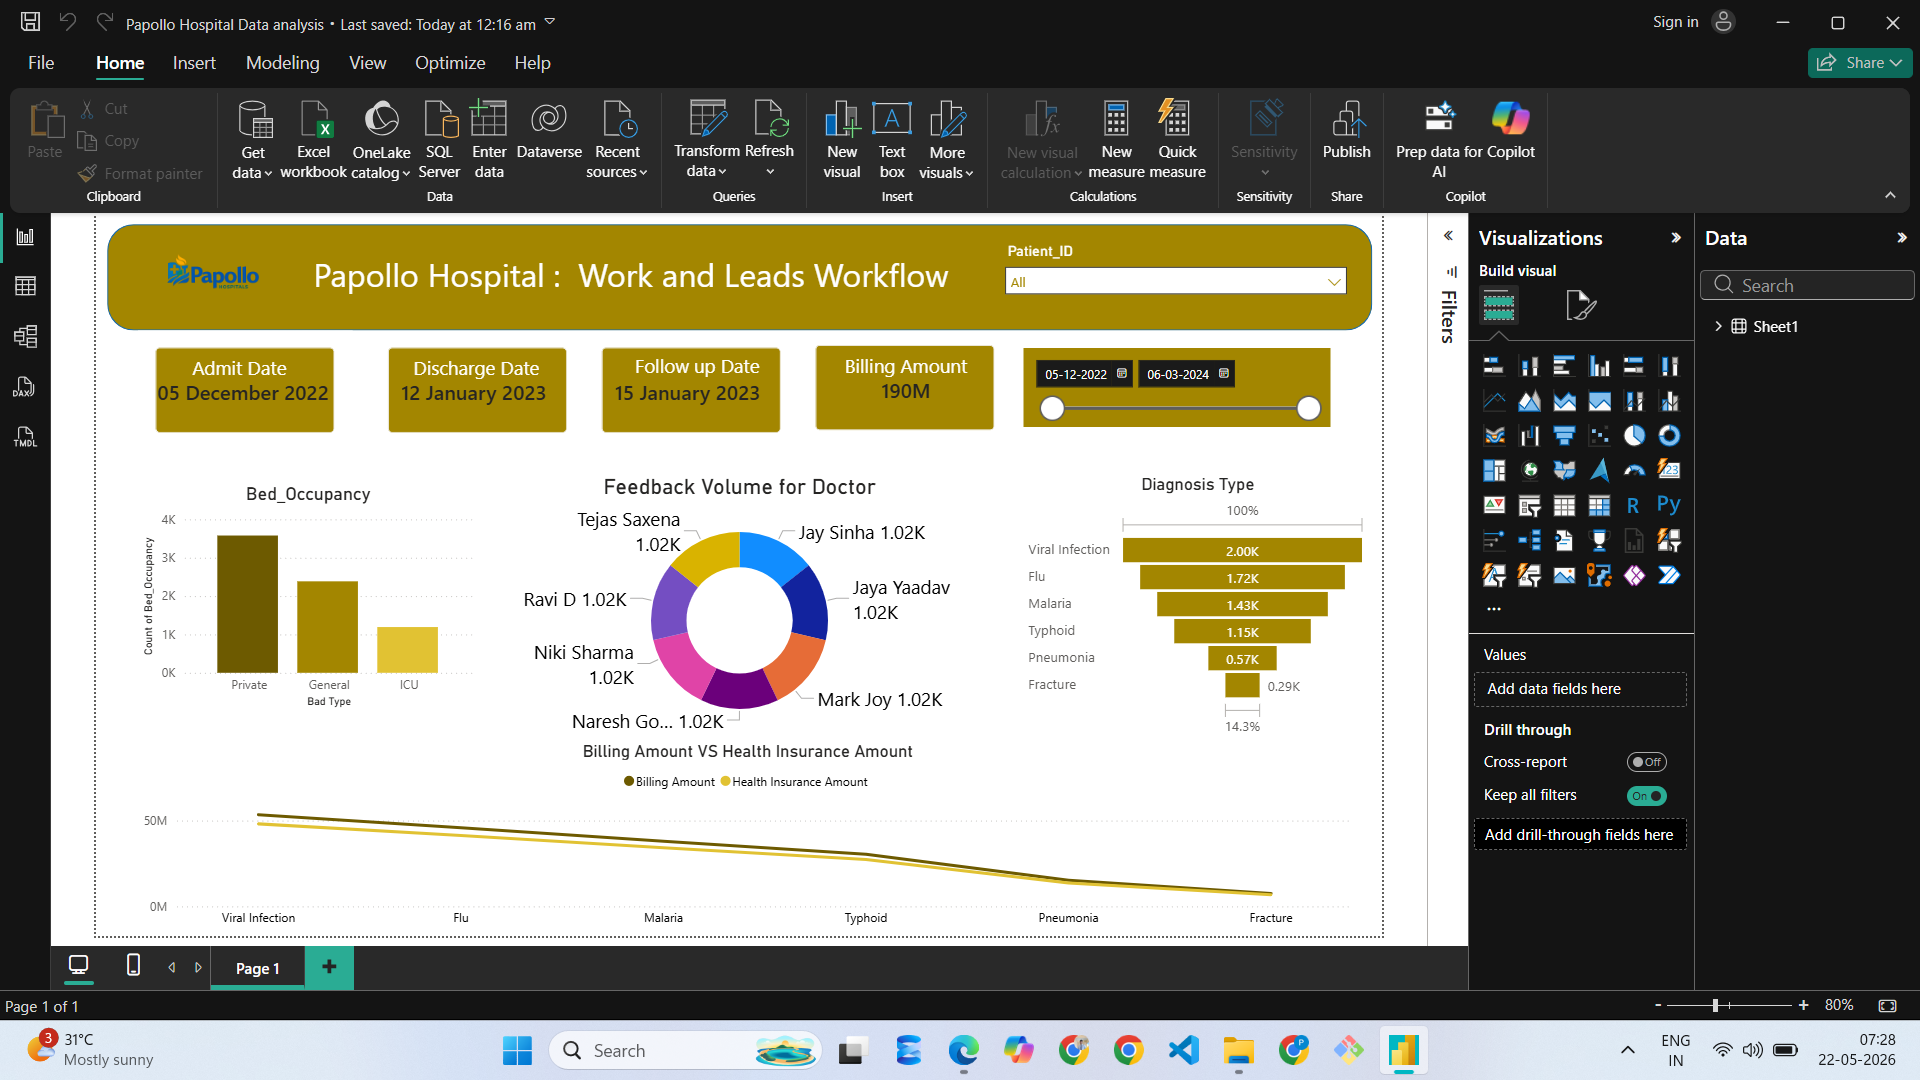

Layout of this report page (visuals, bound fields, positions):
{"tool":"powerbi","page":{"name":"Page 1","canvas":[1280,720],"ordinal":0},"visuals":[{"type":"shape","box":[11.2,11.2,1258.9,105.7],"z":0},{"type":"image","box":[28.6,11.2,182.9,104.5],"z":1000},{"type":"textbox","box":[211.5,34.8,651.8,61],"z":2000},{"type":"slicer","fields":{"Values":["Sheet1.Patient_ID"]},"box":[894.4,24.9,360.7,90.8],"z":3000},{"type":"cardVisual","fields":{"Data":["Min(Sheet1.Admit_Date)"]},"box":[42.3,116.9,212.7,119.4],"z":4000},{"type":"textbox","box":[90.8,136.8,141.8,39.8],"z":5000},{"type":"cardVisual","fields":{"Data":["Min(Sheet1.Discharge_Date)"]},"box":[273.7,116.9,212.7,119.4],"z":6000},{"type":"textbox","box":[311,136.8,141.8,39.8],"z":7000},{"type":"cardVisual","fields":{"Data":["Min(Sheet1.Followup Date)"]},"box":[486.4,116.9,212.7,119.4],"z":8000},{"type":"textbox","box":[527.4,134.3,141.8,39.8],"z":9000},{"type":"cardVisual","fields":{"Data":["Sum(Sheet1.Billing Amount)"]},"box":[699.1,114.4,212.7,119.4],"z":10000},{"type":"textbox","box":[735.2,134.3,141.8,39.8],"z":11000},{"type":"slicer","fields":{"Values":["Sheet1.Admit_Date"]},"box":[923,134.3,304.8,78.4],"z":11001},{"type":"clusteredColumnChart","title":"Bed_Occupancy","fields":{"Category":["Sheet1.Bed_Occupancy"],"Y":["CountNonNull(Sheet1.Bed_Occupancy)"]},"box":[42.3,268.7,338.4,228.9],"z":11002},{"type":"donutChart","title":"Feedback Volume for Doctor","fields":{"Category":["Sheet1.Doctor"],"Y":["CountNonNull(Sheet1.Doctor)"]},"box":[408,260,465.2,265],"z":11003},{"type":"funnel","title":" Diagnosis Type","fields":{"Category":["Sheet1.Diagnosis"],"Y":["CountNonNull(Sheet1.Diagnosis)"]},"box":[923,260,347.1,265],"z":11004},{"type":"lineChart","title":"Billing Amount VS Health Insurance Amount","fields":{"Y":["Sum(Sheet1.Billing Amount)","Sum(Sheet1.Health Insurance Amount)"],"Category":["Sheet1.Diagnosis"]},"box":[42.3,525,1212.9,195.3],"z":11005}]}

Visuals, with their boxes on the page's 1280x720 design canvas (x1, y1, x2, y2). These are canvas units, not pixel positions in the 1920x1080 screenshot, which may show the page scaled, cropped or inside an application window:
shape: bbox(11, 11, 1270, 117)
image: bbox(29, 11, 212, 116)
textbox: bbox(212, 35, 863, 96)
slicer - Sheet1.Patient_ID: bbox(894, 25, 1255, 116)
cardVisual - Min(Sheet1.Admit_Date): bbox(42, 117, 255, 236)
textbox: bbox(91, 137, 233, 177)
cardVisual - Min(Sheet1.Discharge_Date): bbox(274, 117, 486, 236)
textbox: bbox(311, 137, 453, 177)
cardVisual - Min(Sheet1.Followup Date): bbox(486, 117, 699, 236)
textbox: bbox(527, 134, 669, 174)
cardVisual - Sum(Sheet1.Billing Amount): bbox(699, 114, 912, 234)
textbox: bbox(735, 134, 877, 174)
slicer - Sheet1.Admit_Date: bbox(923, 134, 1228, 213)
"Bed_Occupancy" clusteredColumnChart: bbox(42, 269, 381, 498)
"Feedback Volume for Doctor" donutChart: bbox(408, 260, 873, 525)
" Diagnosis Type" funnel: bbox(923, 260, 1270, 525)
"Billing Amount VS Health Insurance Amount" lineChart: bbox(42, 525, 1255, 720)
